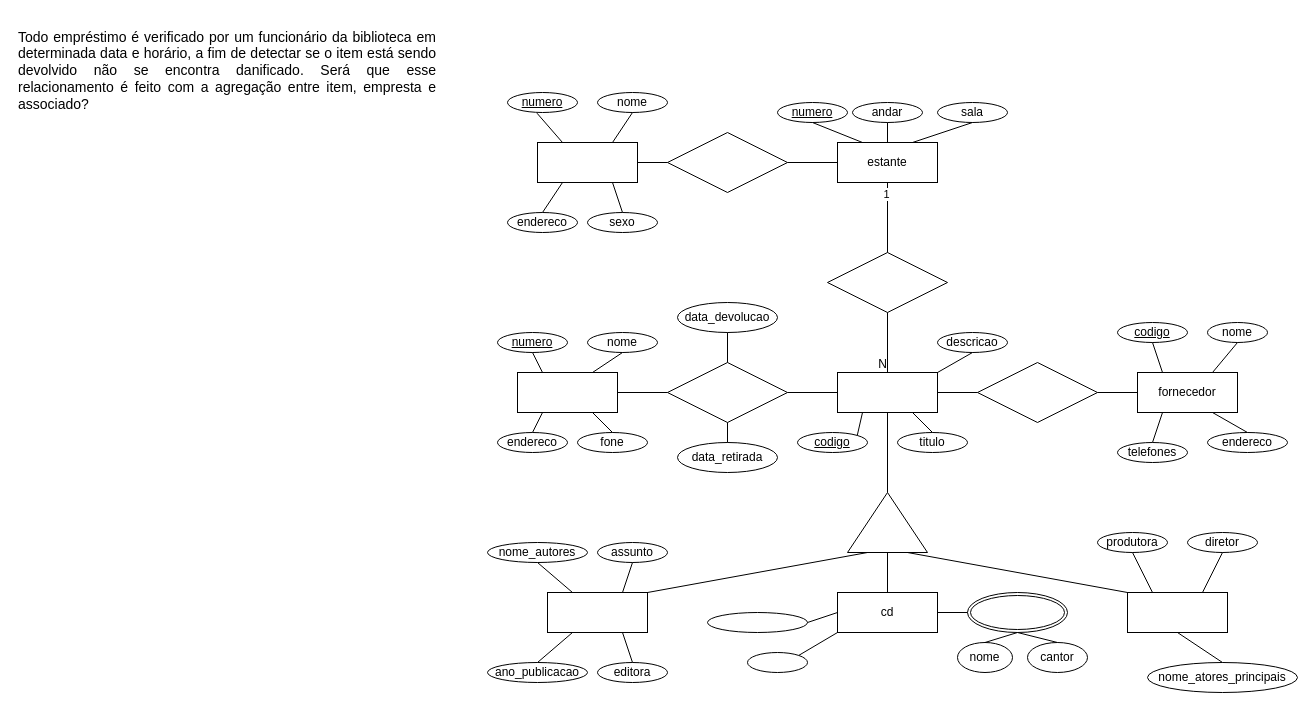
The diagram is 1315 pixels wide and 710 high, and some of its shapes have lost their labels. Here are the shapes that lost their labels. From the top down, the box of each, then its label:
(536, 142, 638, 182): funcionario
(666, 132, 788, 192): responde
(826, 252, 948, 312): armazena
(516, 372, 618, 412): associado
(666, 362, 788, 422): empresta
(836, 372, 938, 412): Item
(976, 362, 1098, 422): fornece
(846, 492, 928, 552): é um
(546, 592, 648, 632): livro
(706, 612, 808, 632): nome_produtora
(966, 592, 1068, 632): musicas
(1126, 592, 1228, 632): dvd
(746, 652, 808, 672): ano
